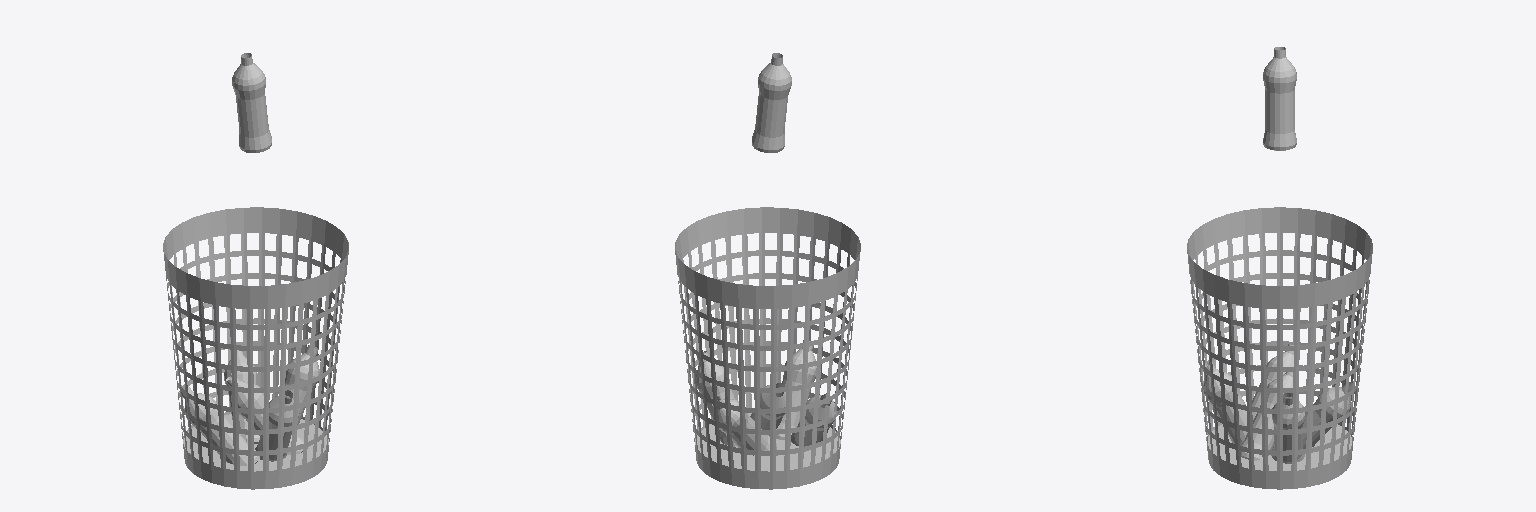
File: DustbinWithCan_000011.obj
3 views of the same model, side by side, from view 1: azimuth 30°, elevation 25°; view 2: azimuth 150°, elevation 25°; view 3: azimuth 270°, elevation 25° (orthographic).
Parts seen in each view (by area): view 1: Cylinder, Plane.006, Plane.005, Plane.001, Plane.004, Plane.003, Plane.002; view 2: Cylinder, Plane.006, Plane.001, Plane.002, Plane.005, Plane.003, Plane.004; view 3: Cylinder, Plane.006, Plane.001, Plane.004, Plane.003, Plane.002.
Boxes of the visible parts, x1=… form: Cylinder: x1=163, y1=207, x2=348, y2=489; Plane.006: x1=232, y1=53, x2=271, y2=152; Plane.005: x1=179, y1=386, x2=259, y2=465; Plane.001: x1=255, y1=390, x2=299, y2=461; Plane.004: x1=226, y1=375, x2=303, y2=454; Plane.003: x1=285, y1=345, x2=319, y2=424; Plane.002: x1=224, y1=350, x2=259, y2=443; Cylinder: x1=675, y1=207, x2=860, y2=489; Plane.006: x1=752, y1=53, x2=791, y2=152; Plane.001: x1=776, y1=340, x2=816, y2=439; Plane.002: x1=712, y1=396, x2=776, y2=455; Plane.005: x1=791, y1=394, x2=837, y2=446; Plane.003: x1=696, y1=351, x2=736, y2=446; Plane.004: x1=750, y1=383, x2=785, y2=435; Cylinder: x1=1187, y1=207, x2=1372, y2=489; Plane.006: x1=1263, y1=47, x2=1296, y2=150; Plane.001: x1=1203, y1=362, x2=1253, y2=444; Plane.004: x1=1240, y1=372, x2=1292, y2=460; Plane.003: x1=1272, y1=393, x2=1305, y2=463; Plane.002: x1=1303, y1=382, x2=1352, y2=448.
Bounding box in the file's own units: 2.6 × 6.26 × 2.6.